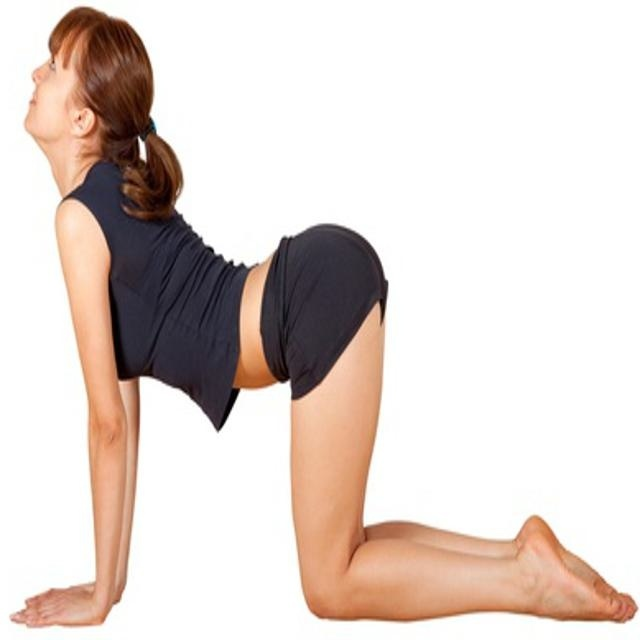Cow_Pose: (12, 6, 636, 626)
